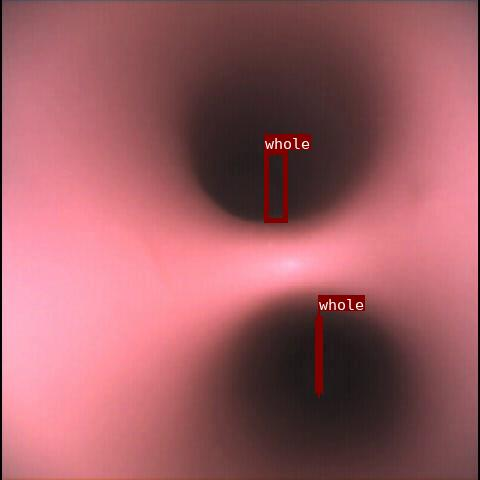whole: (264, 150, 287, 222), (318, 311, 319, 397)
